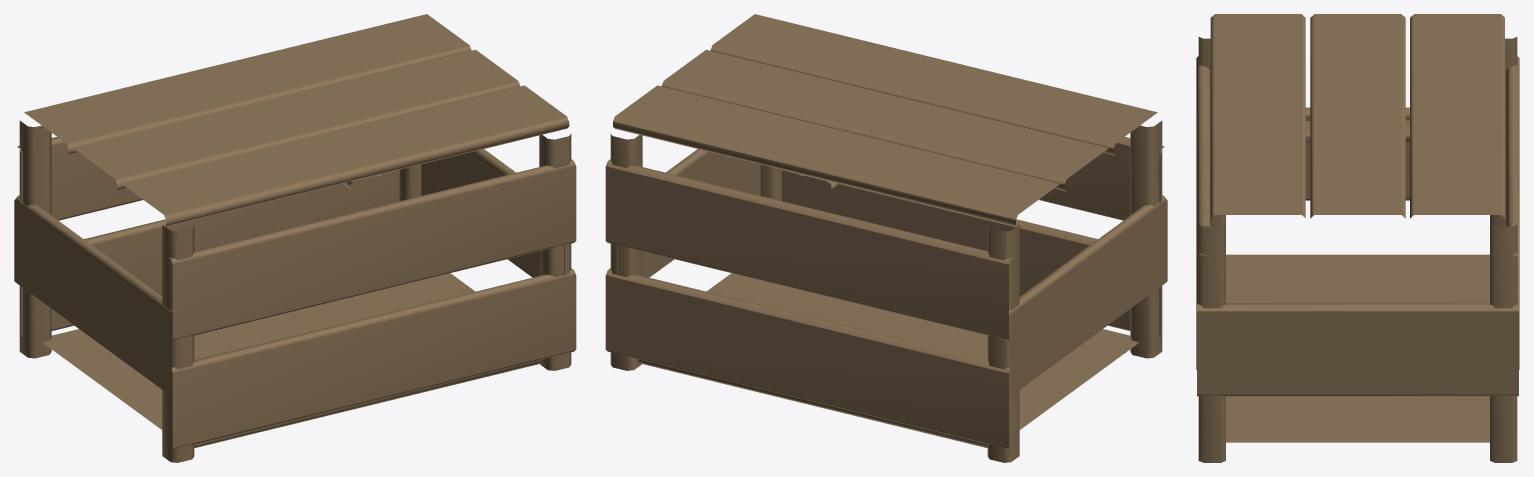
File: ch5-crate.glb
3 views of the same model, side by side, from view 1: azimuth 30°, elevation 25°; view 2: azimuth 150°, elevation 25°; view 3: azimuth 270°, elevation 25° (orthographic). The views are drawn at different scales.
Visible parts, largest first — view 1: crate, lid; view 2: crate, lid; view 3: crate, lid.
Boxes of the visible parts, bbox=[...] form: crate: bbox=[14, 120, 576, 462]; lid: bbox=[24, 14, 569, 226]; crate: bbox=[605, 120, 1167, 462]; lid: bbox=[613, 14, 1157, 226]; crate: bbox=[1196, 37, 1519, 462]; lid: bbox=[1210, 14, 1504, 218].
Size of the model in its own units: 0.6221 by 0.3581 by 0.4219.
